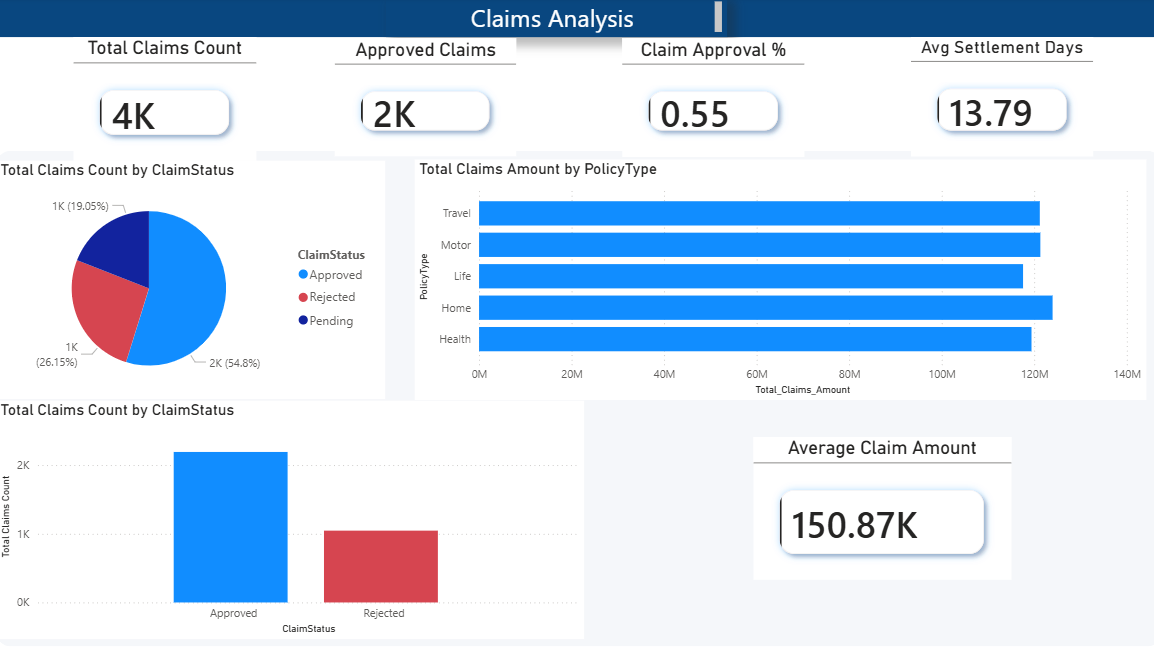

What the dashboard file says about the page in this screenshot:
{"tool":"powerbi","page":{"name":"Page 2","canvas":[1280,720],"ordinal":1},"visuals":[{"type":"shape","box":[0,168.6,1280,544.3],"z":0},{"type":"shape","box":[0,0,1280,44],"z":1000},{"type":"cardVisual","title":"Total Claims Count","fields":{"Data":["Measure_Table.Total Claims Count"]},"box":[85.6,44,200.5,135.7],"z":2000},{"type":"textbox","box":[428,0,374,44],"z":3000},{"type":"cardVisual","title":"Approved Claims","fields":{"Data":["Measure_Table.Approved Claims Count"]},"box":[371.7,45.2,199.3,129.6],"z":4000},{"type":"cardVisual","title":"Claim Approval %","fields":{"Data":["Measure_Table.Claim Approval Rate %"]},"box":[687.1,45.7,200,130],"z":5000},{"type":"cardVisual","title":"Avg Settlement Days","fields":{"Data":["Measure_Table.Avg Settlement Days"]},"box":[1004.3,44.3,200,131.4],"z":6000},{"type":"donutChart","fields":{"Category":["Fact_Claims.ClaimStatus"],"Y":["Measure_Table.Total Claims Count"]},"box":[0,180,427.1,261.4],"z":7000},{"type":"barChart","title":"Total Claims Amount by PolicyType","fields":{"Category":["Dim_Policy.PolicyType"],"Y":["Measure_Table.Total_Claims_Amount"]},"box":[460,178.6,802.9,264.3],"z":8000},{"type":"lineClusteredColumnComboChart","fields":{"Category":["Fact_Claims.ClaimStatus"],"Y":["Measure_Table.Total Claims Count"]},"box":[0,442.9,645.7,261.4],"z":9000},{"type":"cardVisual","title":"Average Claim Amount","fields":{"Data":["Measure_Table.Average Claim Amount"]},"box":[831.4,482.9,282.9,157.1],"z":10000}]}

Visuals, with their boxes in screenshot pixels (x1, y1, x2, y2), scaled from the page's 1280x720 canvas onto the 1154x652 screenshot:
shape: locate(0, 153, 1153, 646)
shape: locate(0, 0, 1153, 40)
"Total Claims Count" cardVisual: locate(77, 40, 258, 163)
textbox: locate(386, 0, 723, 40)
"Approved Claims" cardVisual: locate(335, 41, 515, 158)
"Claim Approval %" cardVisual: locate(619, 41, 800, 159)
"Avg Settlement Days" cardVisual: locate(905, 40, 1086, 159)
donutChart - Fact_Claims.ClaimStatus x Measure_Table.Total Claims Count: locate(0, 163, 385, 400)
"Total Claims Amount by PolicyType" barChart: locate(415, 162, 1139, 401)
lineClusteredColumnComboChart - Fact_Claims.ClaimStatus x Measure_Table.Total Claims Count: locate(0, 401, 582, 638)
"Average Claim Amount" cardVisual: locate(750, 437, 1005, 580)
